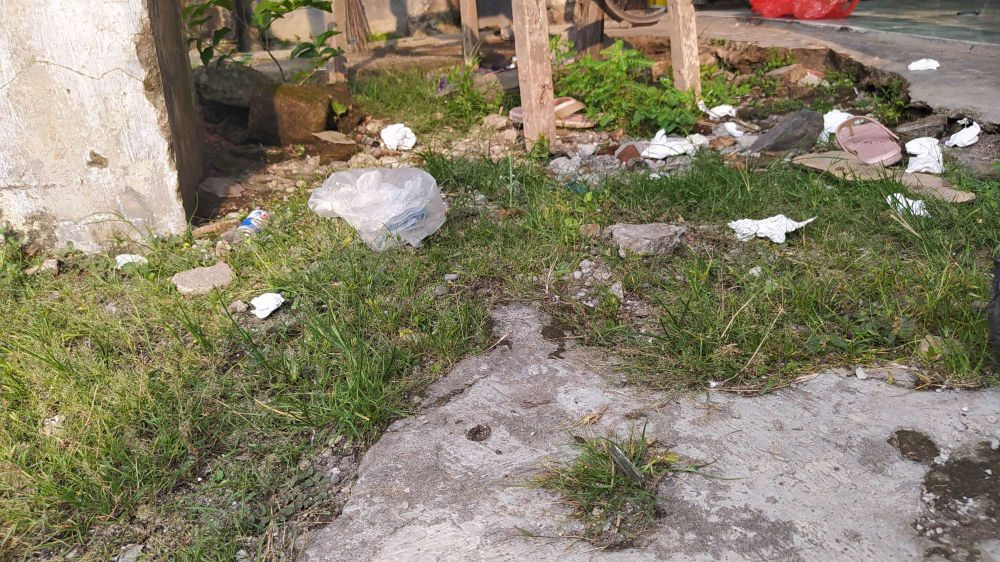plastik: (305, 162, 453, 257), (723, 191, 818, 263), (638, 108, 713, 173), (899, 127, 950, 197), (822, 98, 860, 146), (949, 107, 989, 152)
